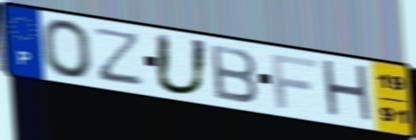B: (208, 42, 261, 106)
F: (268, 52, 320, 112)
H: (319, 57, 377, 128)
O: (38, 17, 96, 81)
U: (152, 30, 212, 97)
Z: (95, 26, 144, 88)
